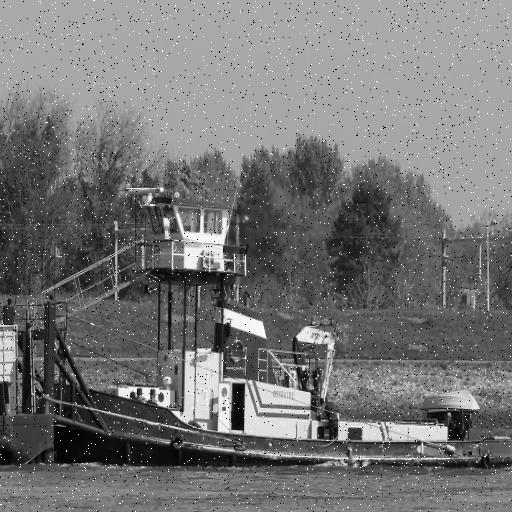tugboat: (1, 170, 512, 482)
